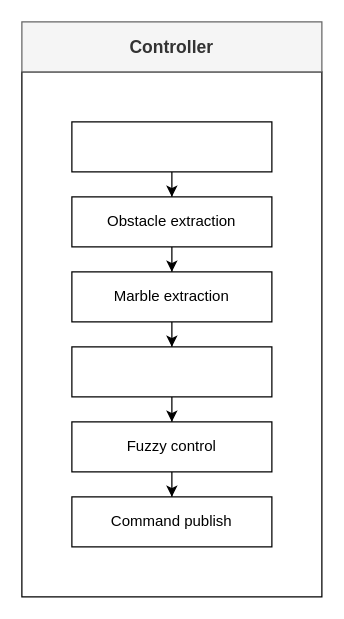
This 344x619 diagram has some shape labels left out. The centre of each missing label's shape, as x and y in pixels:
Localization: [171,146]
Path generation + AI: [171,371]
